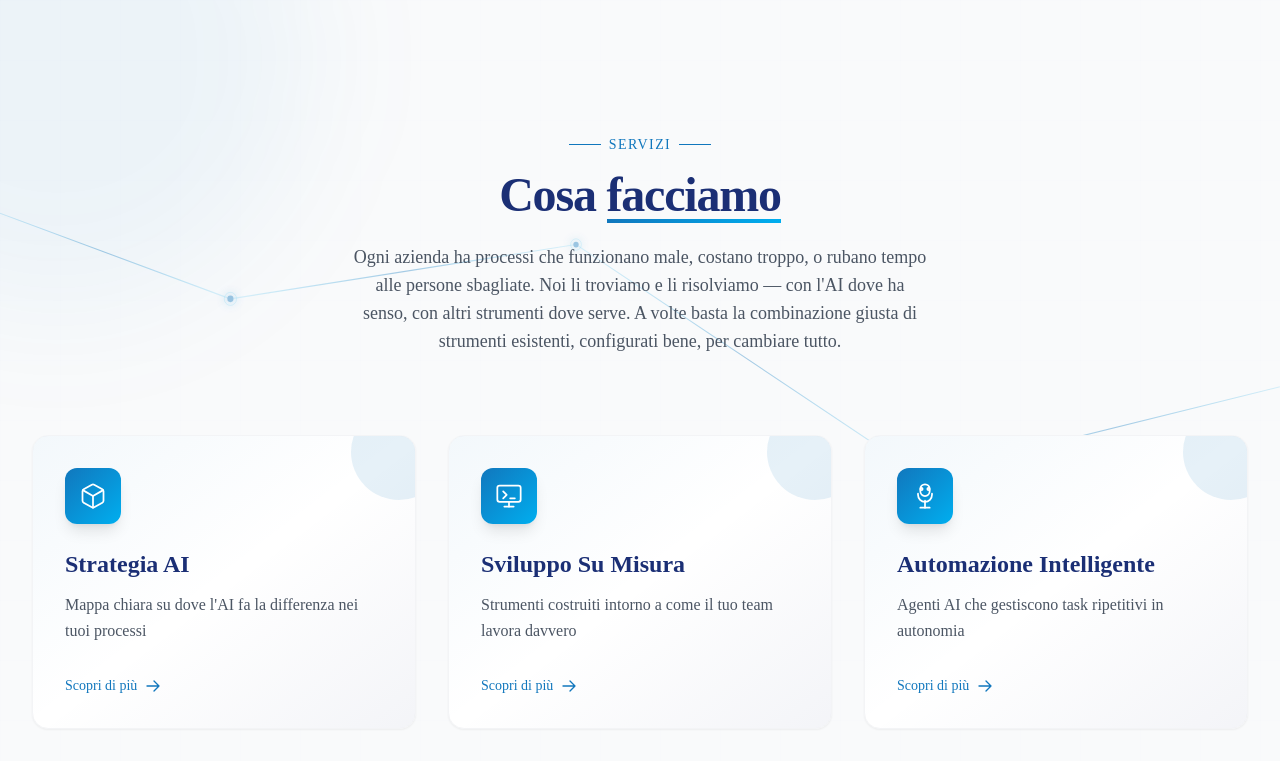
Test: Services › Modal Functionality › opens modal when card is clicked
Click the button with aria-label "scopri di più - strategia ai": (224, 582) 32,434 -> 416,728
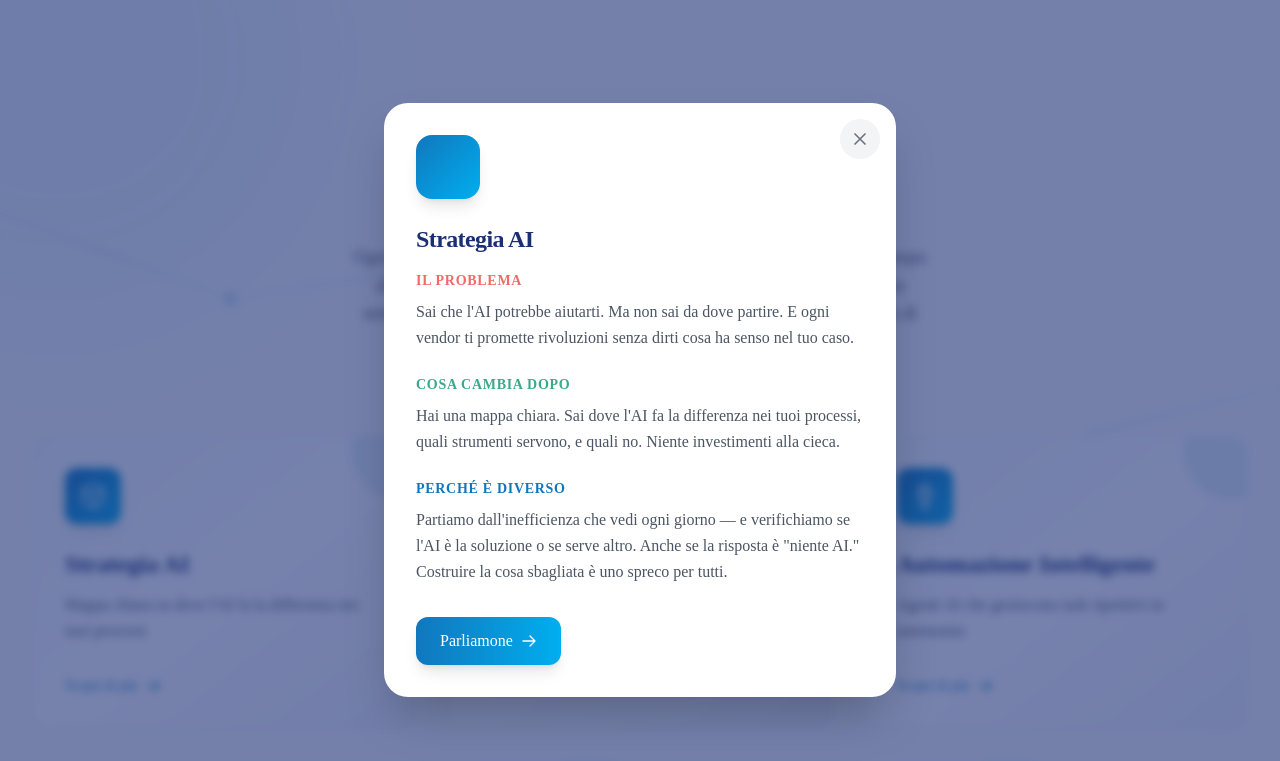
Now the dialog is shown, box 384,103 -> 896,697
